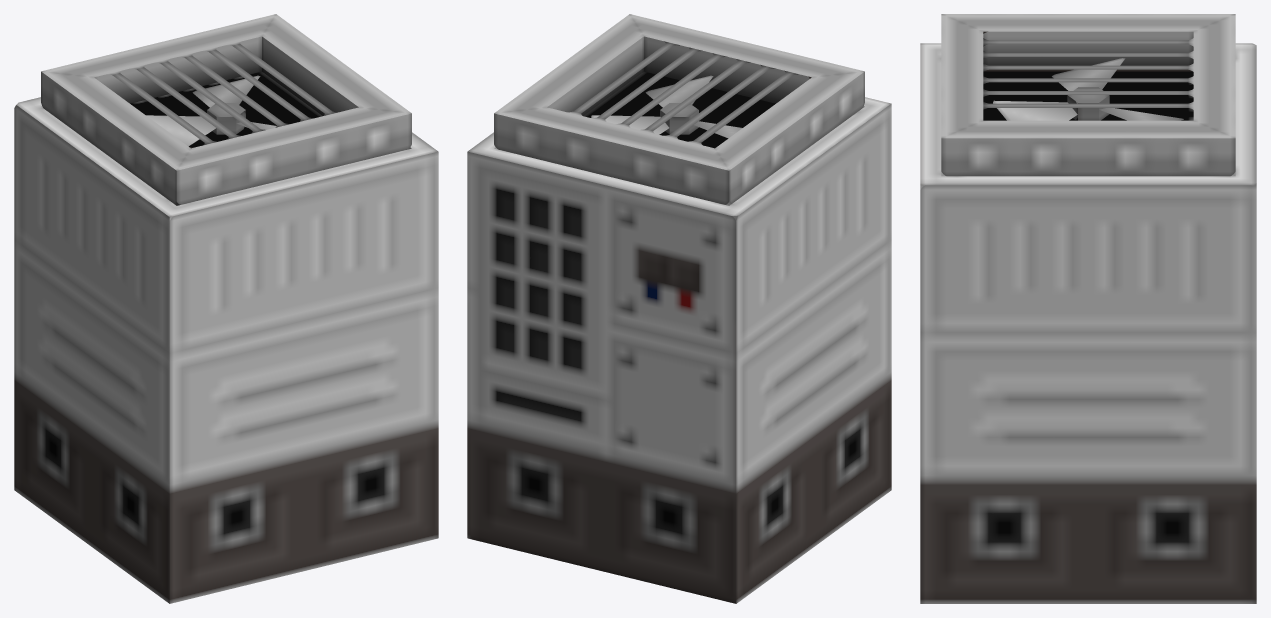
File: outtake.obj
3 views of the same model, side by side, from view 1: azimuth 30°, elevation 25°; view 2: azimuth 150°, elevation 25°; view 3: azimuth 270°, elevation 25° (orthographic). The views are drawn at different scales.
Parts seen in each view (by area): view 1: Base, Fan; view 2: Base, Fan; view 3: Base, Fan.
Boxes of the visible parts, <box> form: Base: <box>14,14,438,603</box>; Fan: <box>146,75,276,146</box>; Base: <box>467,14,891,603</box>; Fan: <box>591,75,742,138</box>; Base: <box>920,14,1256,603</box>; Fan: <box>993,58,1183,120</box>.
Size of the model in its own units: 2 by 3 by 2.
